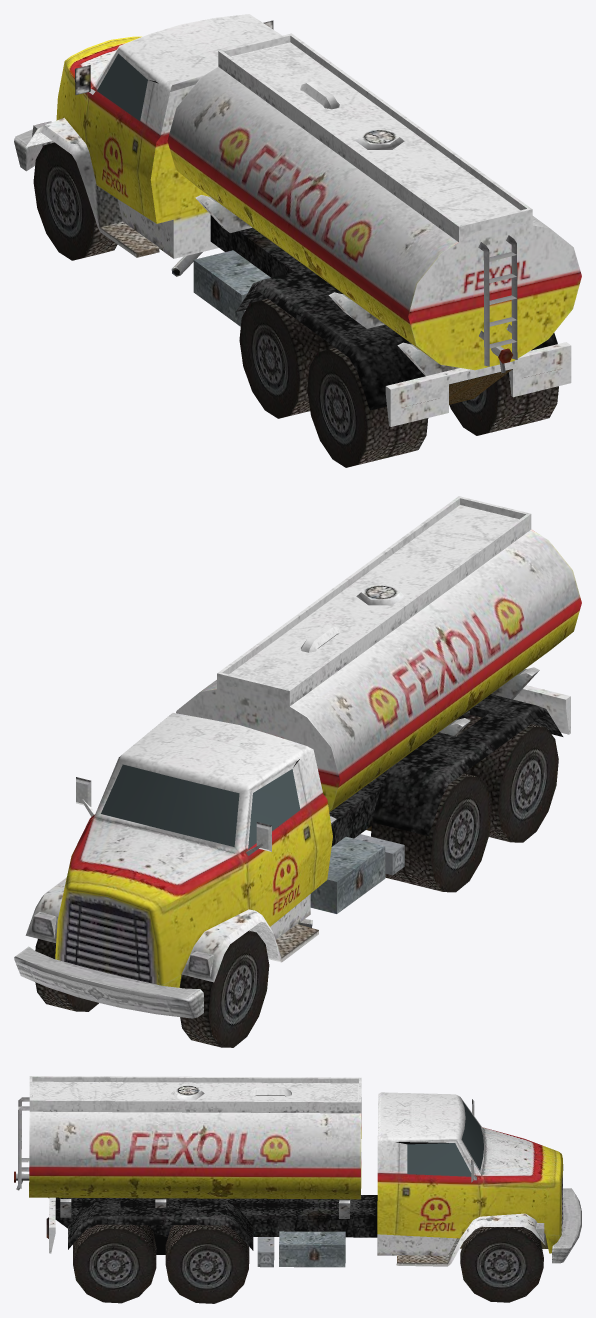
The model's file is p54_18_tanker_fuel.glb.
3 renders of one model, top to bottom at view 1: azimuth 30°, elevation 25°; view 2: azimuth 150°, elevation 25°; view 3: azimuth 270°, elevation 25°, orthographic. The views are drawn at different scales.
Parts seen in each view (by area): view 1: Body, Glass; view 2: Body, Glass; view 3: Body, Glass.
Part boxes in pixels (x1,y1,x2,y2): Body: (14,14,581,467); Glass: (97,53,147,120); Body: (14,496,581,1047); Glass: (101,764,300,849); Body: (14,1076,581,1303); Glass: (407,1101,483,1176).
Size of the model in its own units: 2.19 by 2.85 by 7.95.
Materials: 2 (2 with a texture image).
